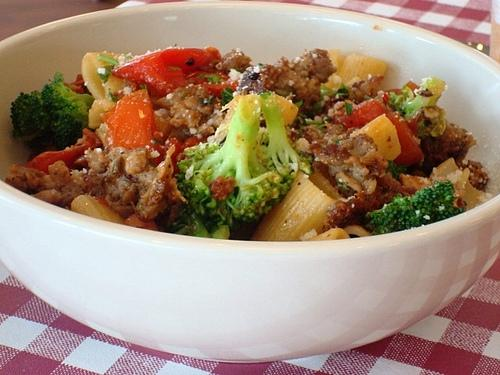broccoli: (175, 94, 315, 227), (11, 75, 96, 161), (365, 180, 467, 236), (403, 76, 448, 138), (171, 204, 230, 239), (306, 83, 337, 116)
carrot: (112, 100, 154, 148), (337, 98, 387, 128), (124, 214, 160, 232), (96, 198, 108, 207)
tomato: (110, 46, 223, 102), (25, 128, 102, 175), (112, 100, 154, 149), (332, 98, 388, 131)
